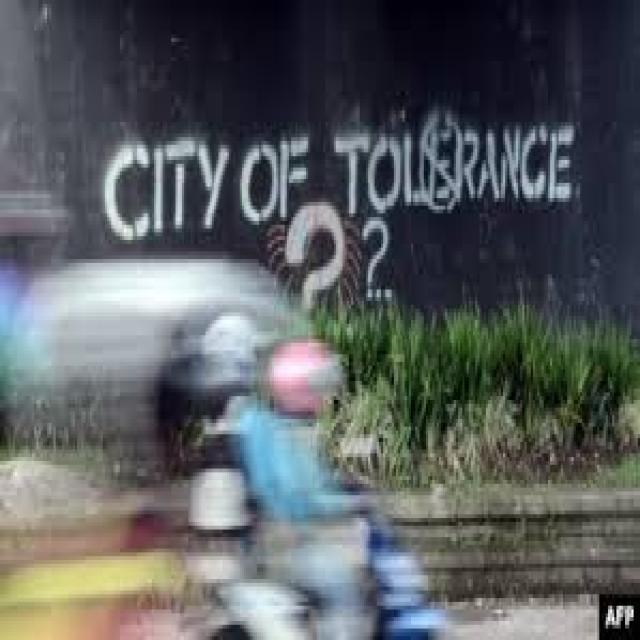-: (107, 106, 573, 316)
